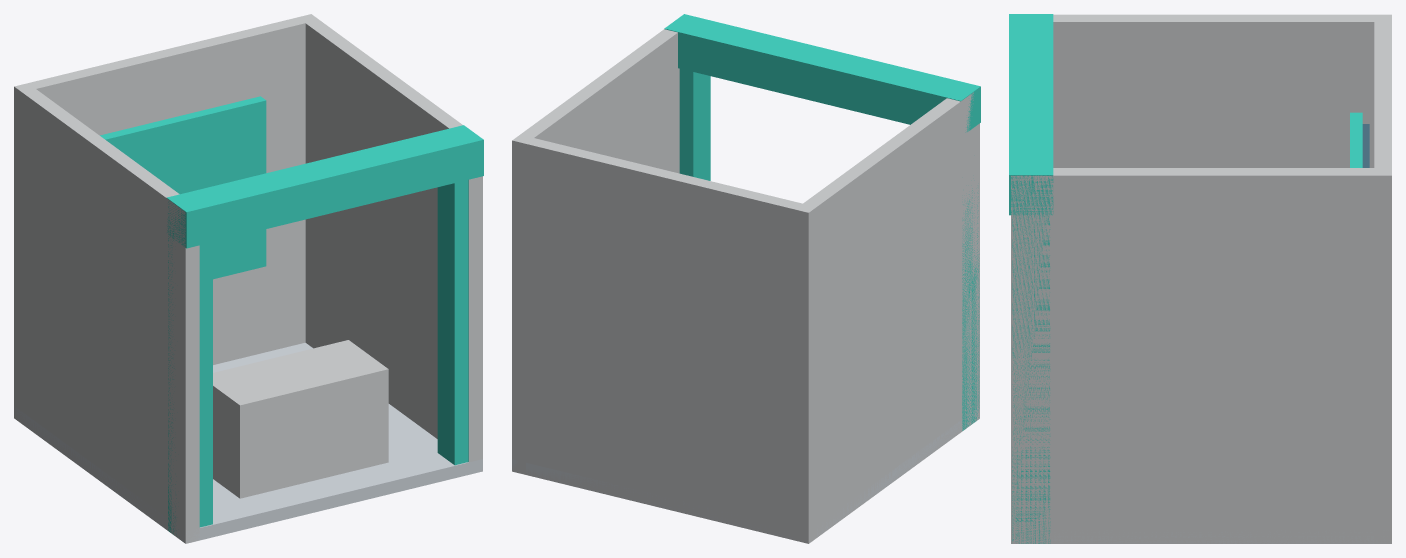
3 renders of one model, left to right at view 1: azimuth 30°, elevation 25°; view 2: azimuth 150°, elevation 25°; view 3: azimuth 270°, elevation 25°, orthographic. The views are drawn at different scales.
Visible parts, largest first — view 1: Exhibition Booth Concept; view 2: Exhibition Booth Concept; view 3: Exhibition Booth Concept.
Part boxes in pixels (x1=…): Exhibition Booth Concept: x1=14, y1=14, x2=483, y2=543; Exhibition Booth Concept: x1=512, y1=14, x2=980, y2=543; Exhibition Booth Concept: x1=1009, y1=14, x2=1391, y2=543.
Bounding box in the file's own units: 3 × 3.2 × 3.01.
